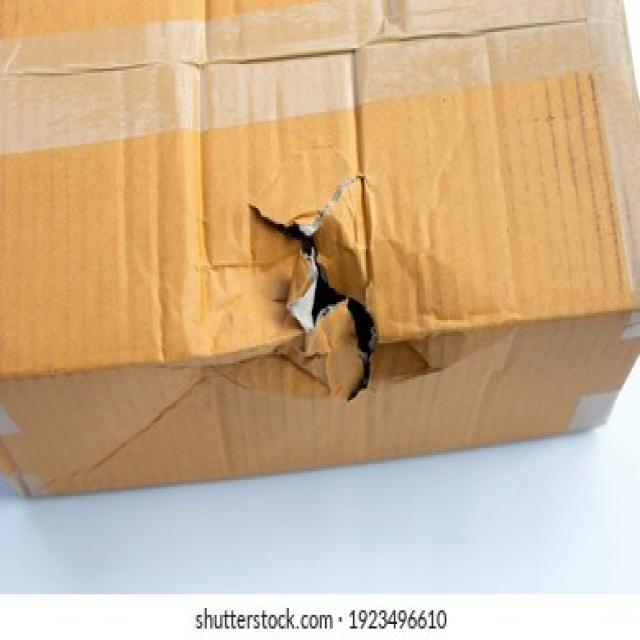hole: (261, 189, 400, 406)
